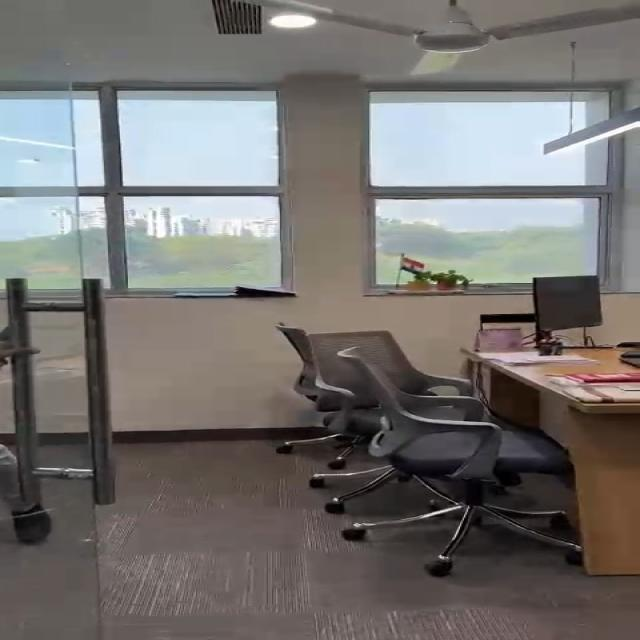floor: (84, 435, 322, 640)
furniture: (267, 325, 565, 570), (523, 263, 609, 356)
wall: (0, 83, 313, 426), (302, 74, 640, 288)
